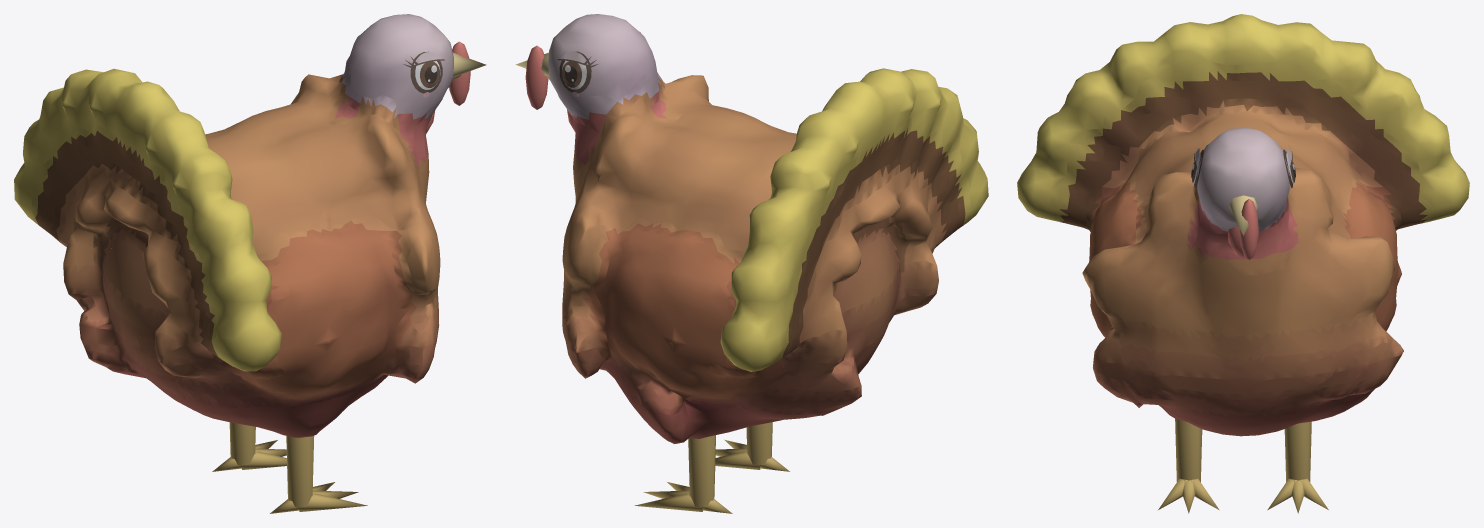
The model's file is autumn_turkey.glb.
3 renders of one model, left to right at view 1: azimuth 30°, elevation 25°; view 2: azimuth 150°, elevation 25°; view 3: azimuth 270°, elevation 25°, orthographic. The views are drawn at different scales.
Parts seen in each view (by area): view 1: autumn_turkey; view 2: autumn_turkey; view 3: autumn_turkey.
Part boxes in pixels (<box>): autumn_turkey: <box>14,14,486,513</box>; autumn_turkey: <box>515,14,988,513</box>; autumn_turkey: <box>1017,14,1469,513</box>.
Bounding box in the file's own units: 0.6986 × 0.7724 × 0.7615.
